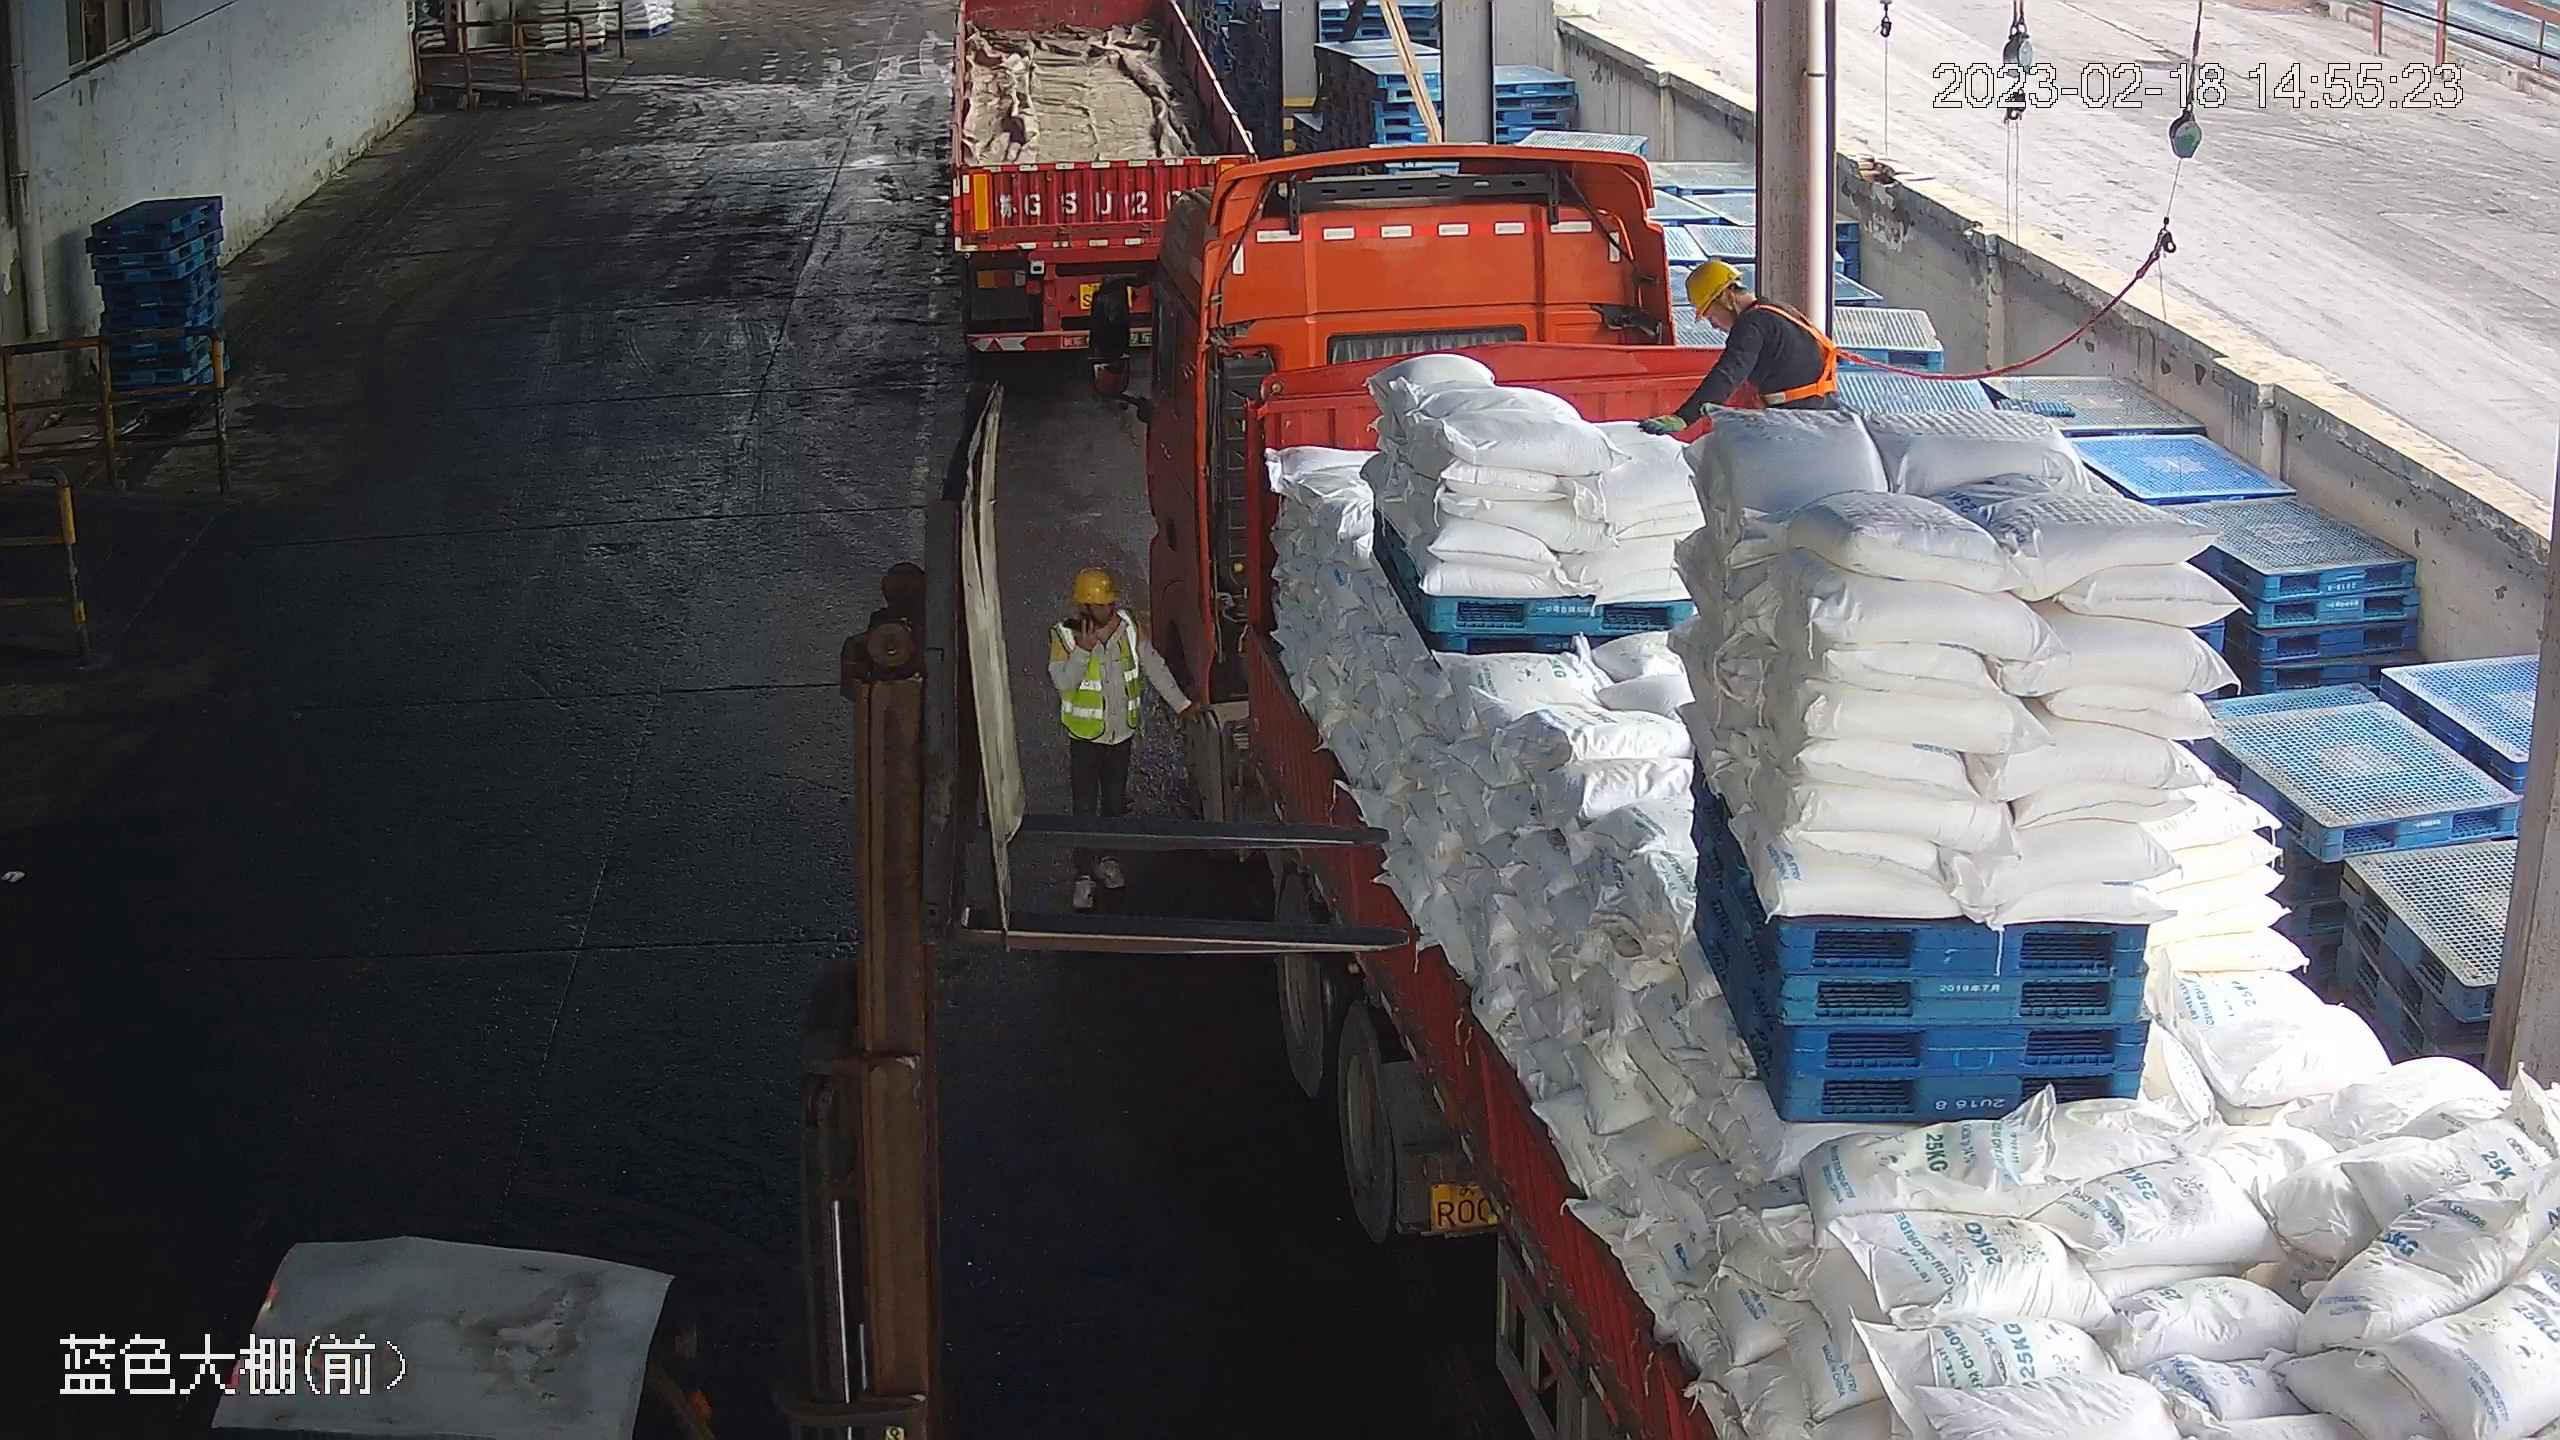belt: (1746, 296, 1846, 407)
head: (1684, 258, 1807, 353), (1049, 569, 1142, 661)
helmet: (1683, 258, 1741, 317), (1069, 568, 1119, 604)
people: (1048, 567, 1184, 828)
truck: (1139, 159, 2556, 1440), (914, 1, 1268, 354)
